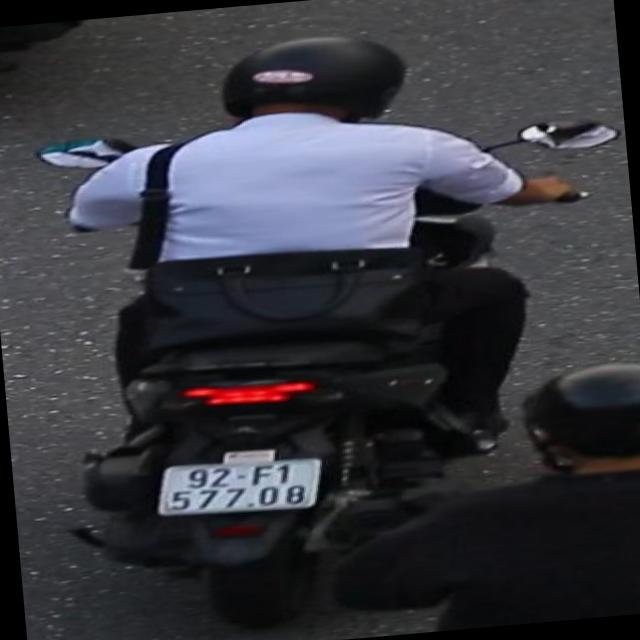LP: (146, 447, 329, 522)
helmet: (201, 23, 422, 146)
